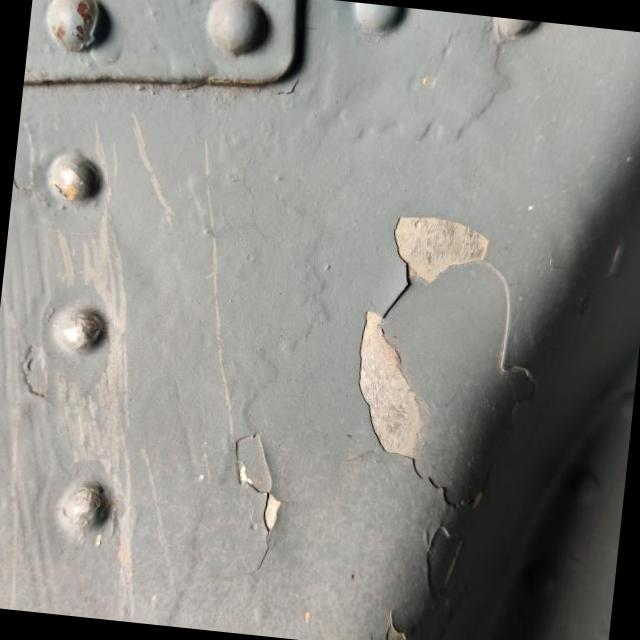Paint-off: (360, 311, 423, 458), (229, 433, 288, 581), (395, 217, 489, 283)
